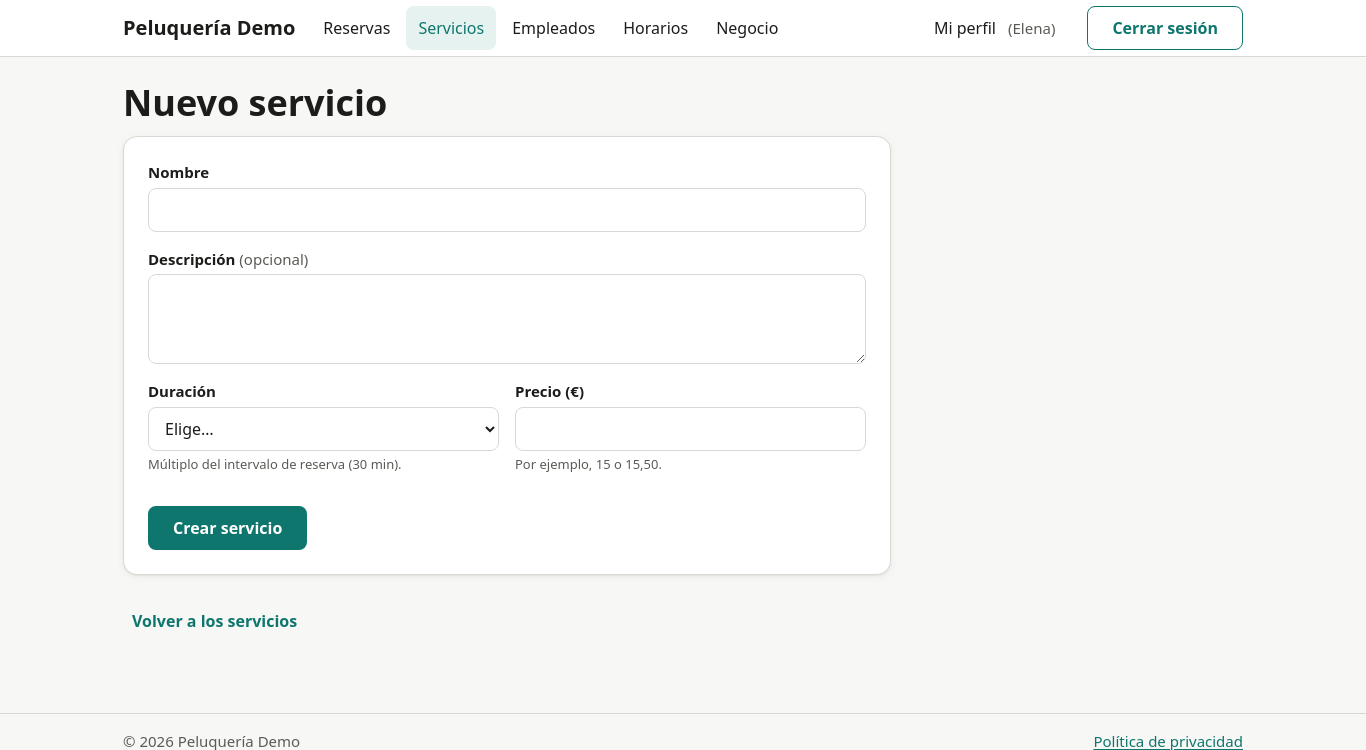
servicios (CU-016) › crea un servicio con una duración múltiplo del intervalo y un precio con coma
Click the button "Crear servicio": (228, 528) [148,506,307,550]
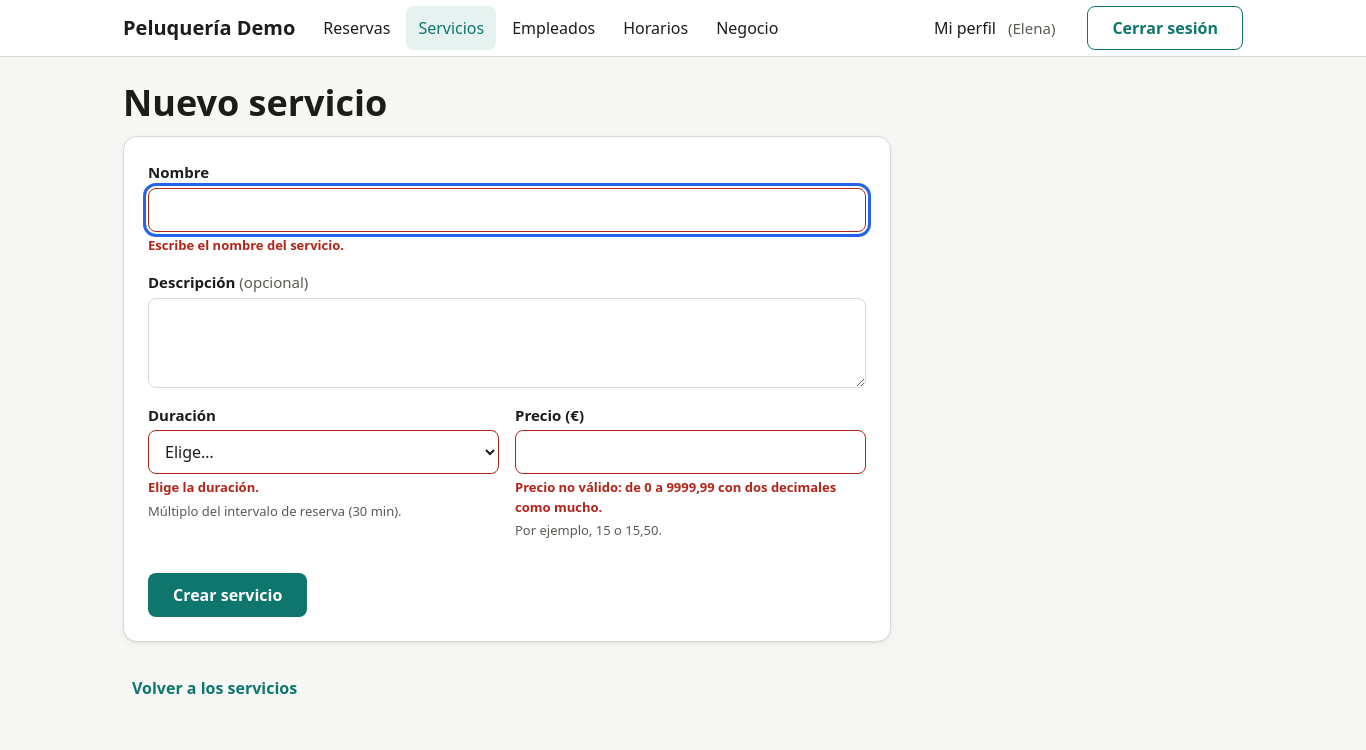
Expected: the text "Escribe el nombre del servicio." is shown, [148,236,344,254]
In the field labelled "Nombre": (507, 210) [148,188,866,232], type "Barba"
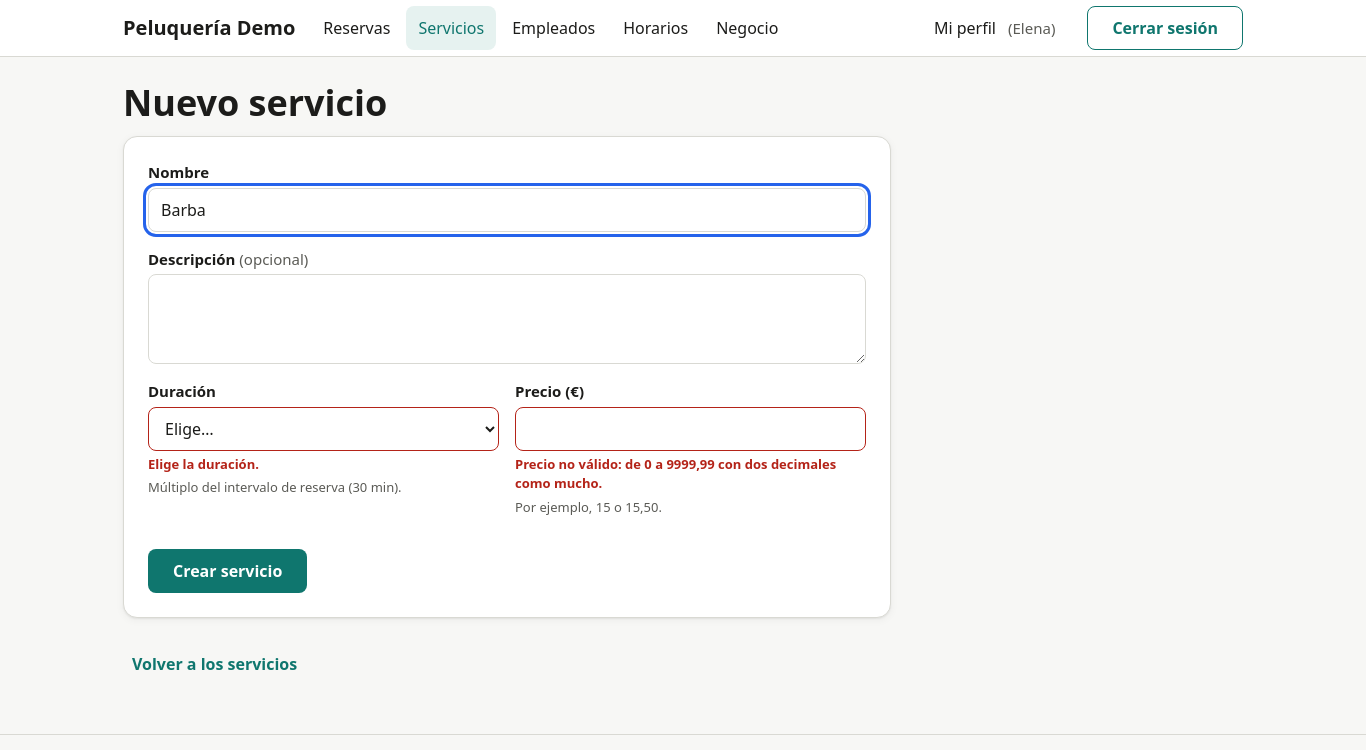
Select "1 h" in the dropdown labelled "Duración": (324, 429) [148,407,499,451]
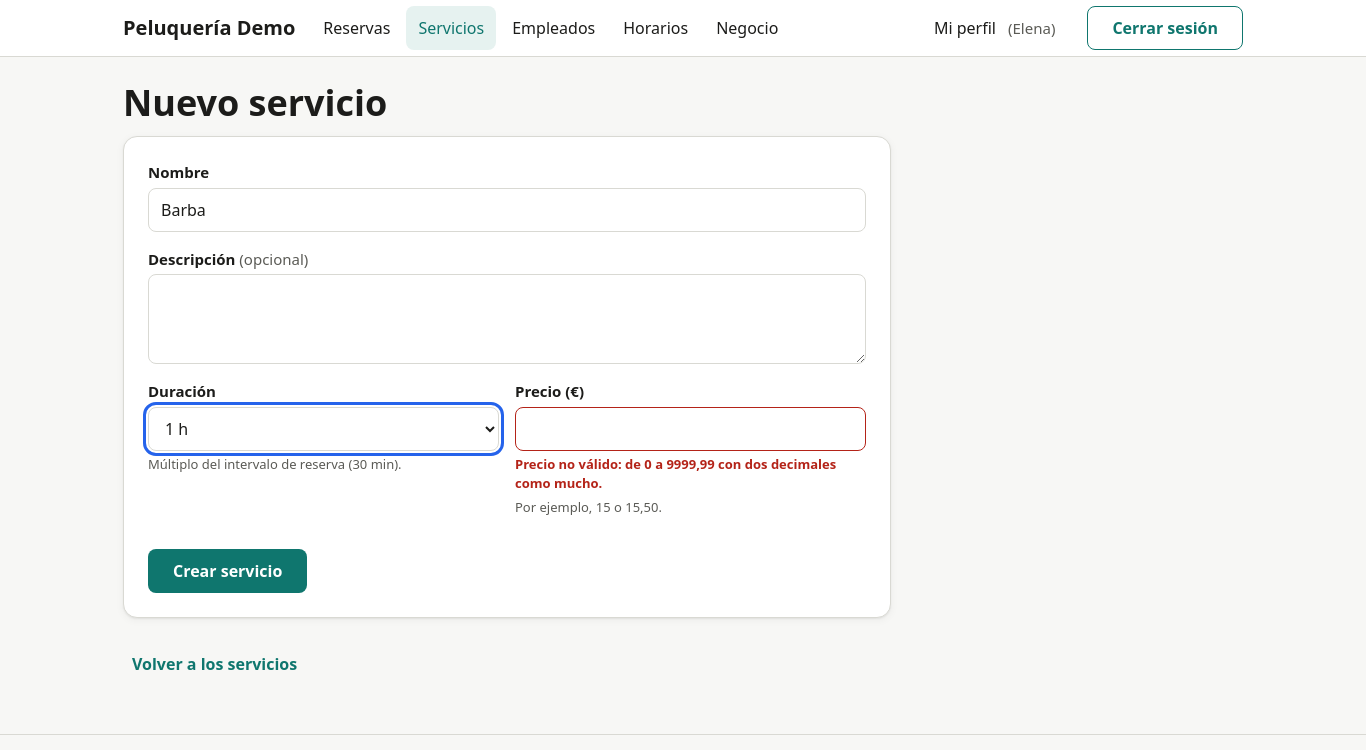
In the field labelled "Precio (€)": (690, 429) [515,407,866,451], type "12,5"
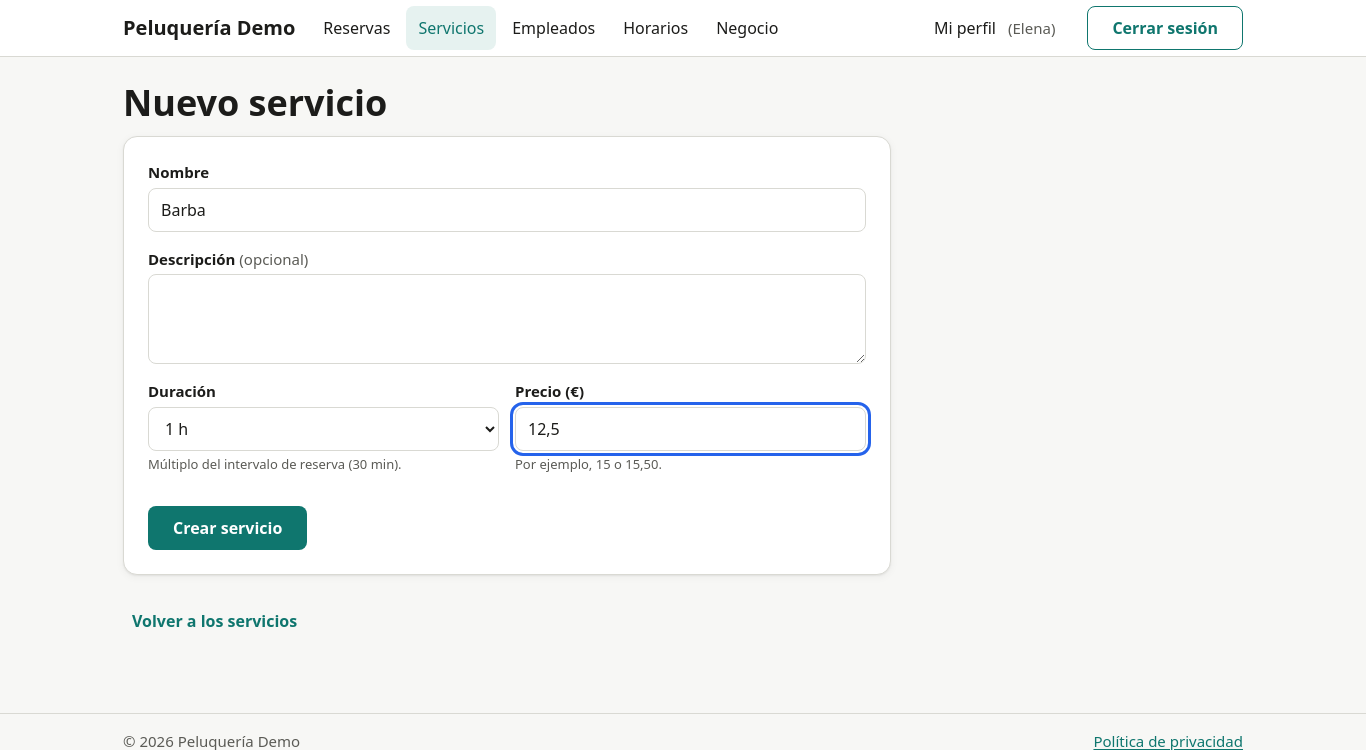
Click the button "Crear servicio": (228, 528) [148,506,307,550]
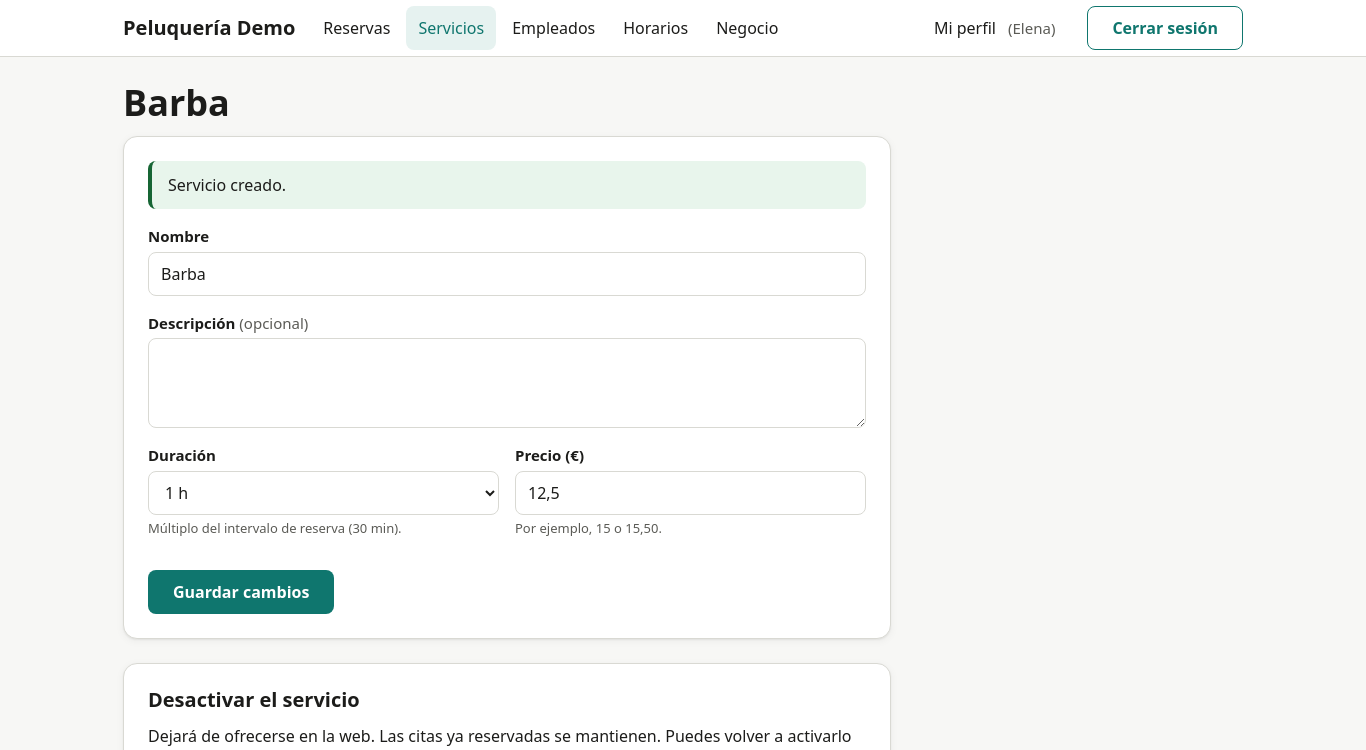
Expected: the text "Servicio creado." is shown, [148,161,866,209]
